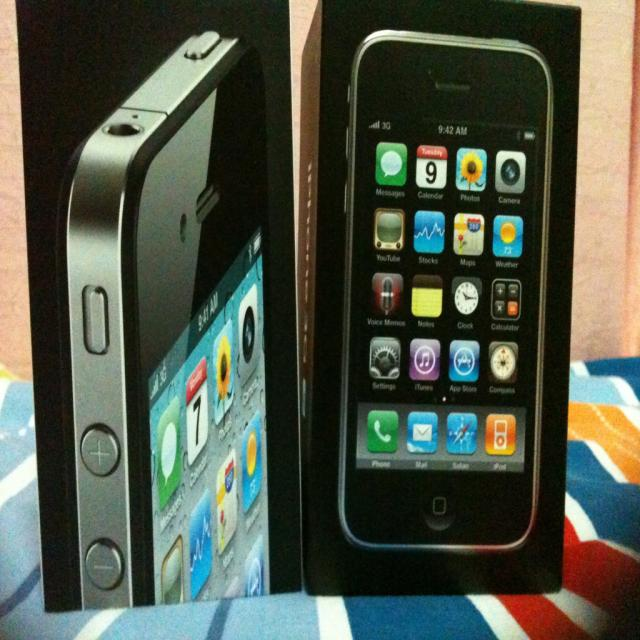Mobile-phone: (313, 0, 563, 612), (59, 28, 274, 612)
